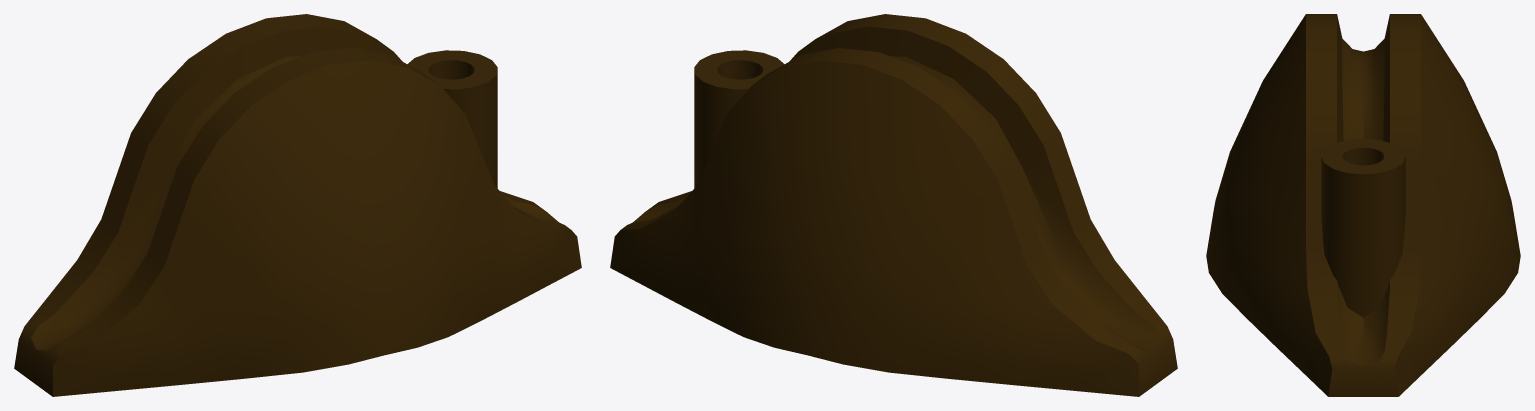
The picture shows the model from 3 angles, left to right: view 1: azimuth 30°, elevation 25°; view 2: azimuth 150°, elevation 25°; view 3: azimuth 270°, elevation 25°; orthographic projection. The views are drawn at different scales.
Visible parts, largest first — view 1: 2528.dat; view 2: 2528.dat; view 3: 2528.dat.
Part boxes in pixels (x1,y1,x2,y2): 2528.dat: (14, 14, 581, 396); 2528.dat: (610, 14, 1177, 396); 2528.dat: (1206, 14, 1520, 396).
Bounding box in the file's own units: 2.1 × 1.05 × 1.19.
